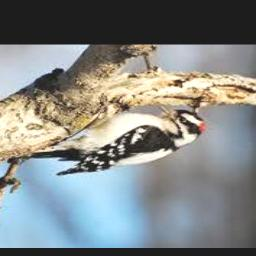Woodpecker: (19, 103, 204, 176)
